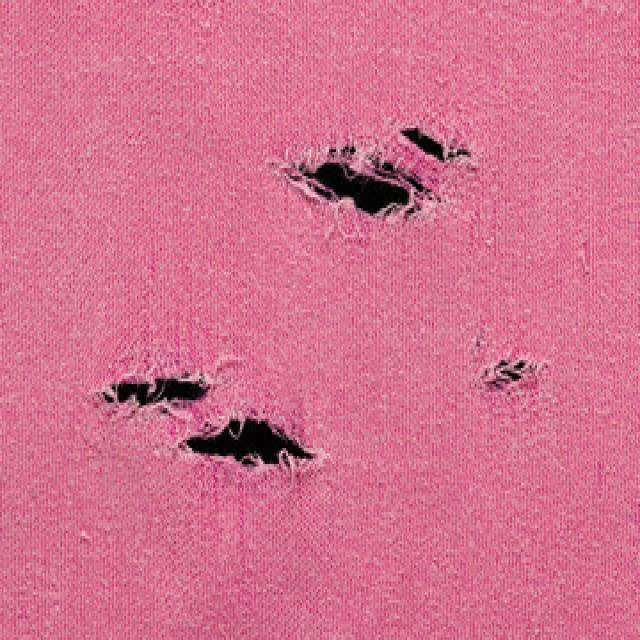Hole: (186, 419, 314, 465), (303, 162, 409, 214), (102, 378, 209, 406), (402, 127, 472, 160), (483, 359, 540, 390)
